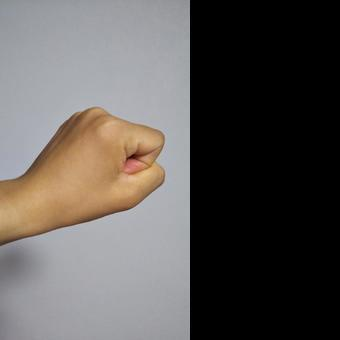gu-: (24, 106, 167, 229)
